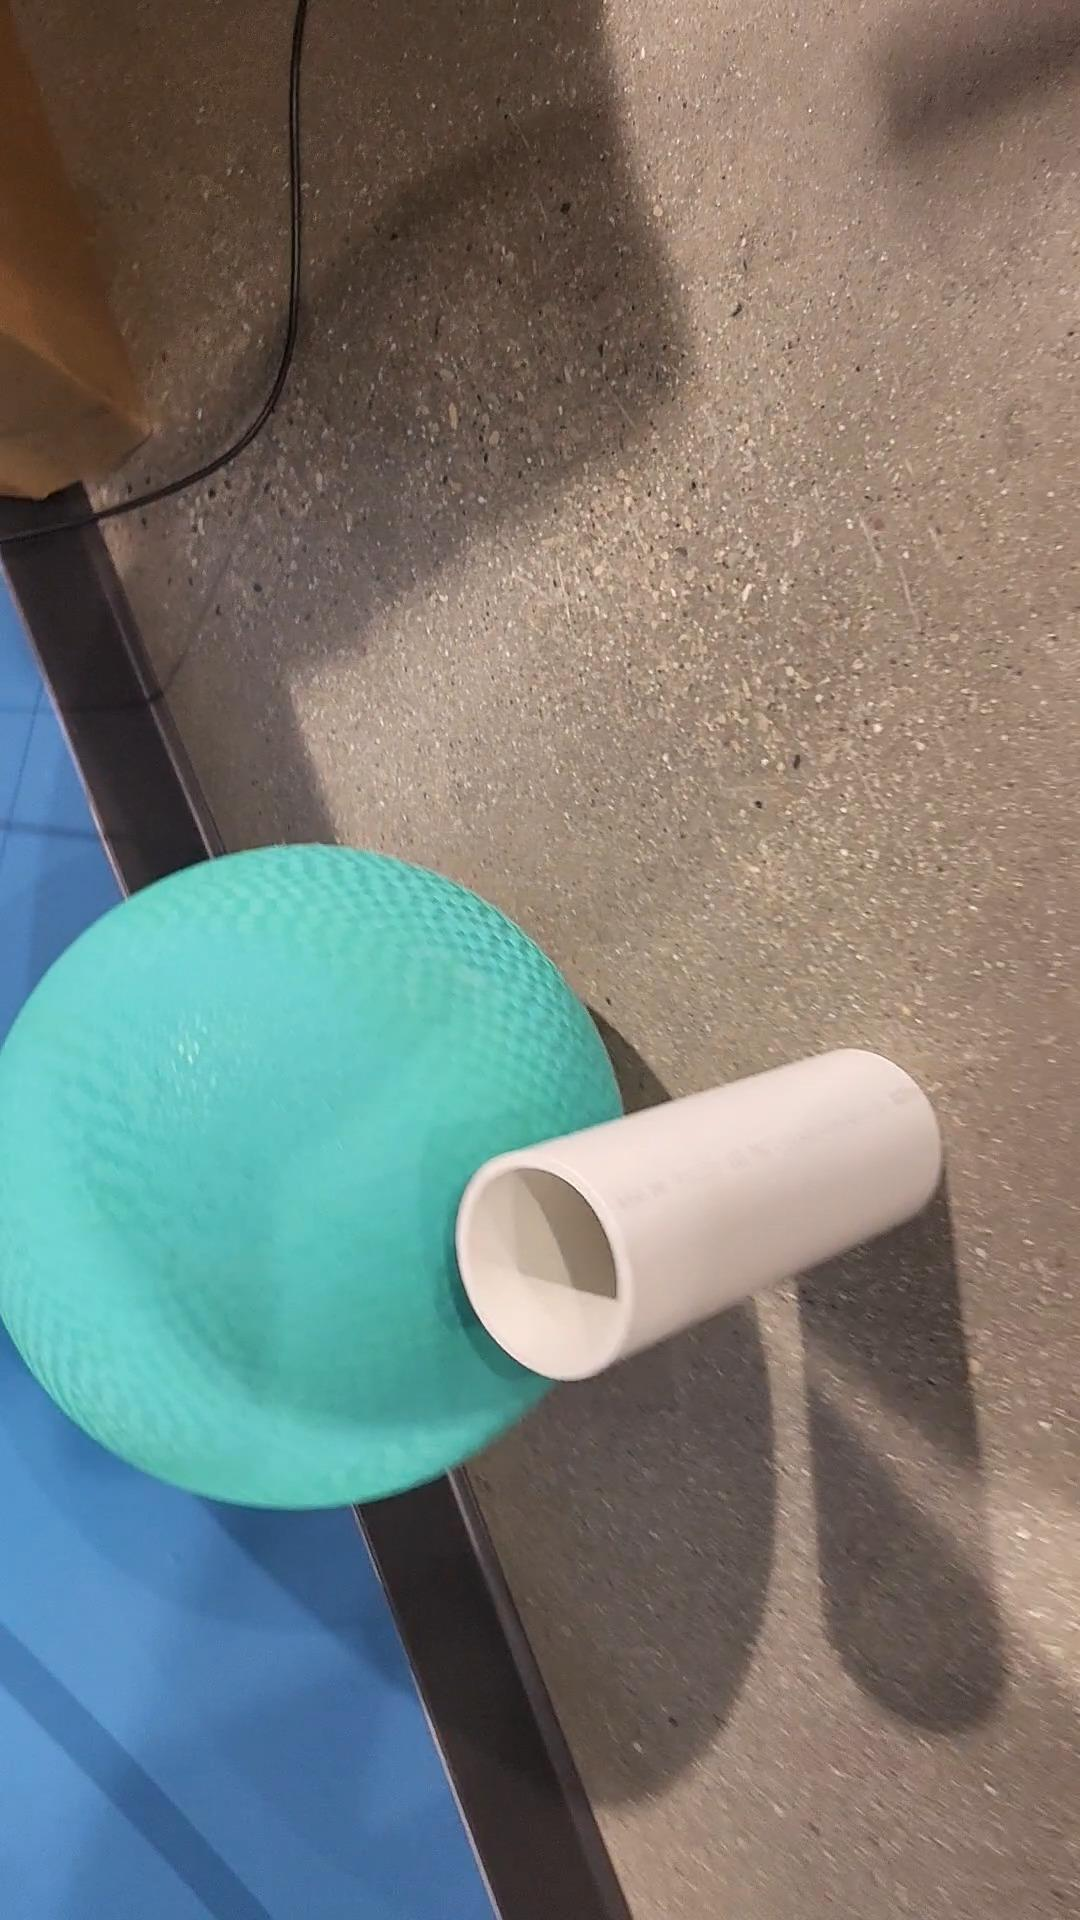algae: (0, 848, 628, 1507)
coral: (460, 1044, 938, 1373)
